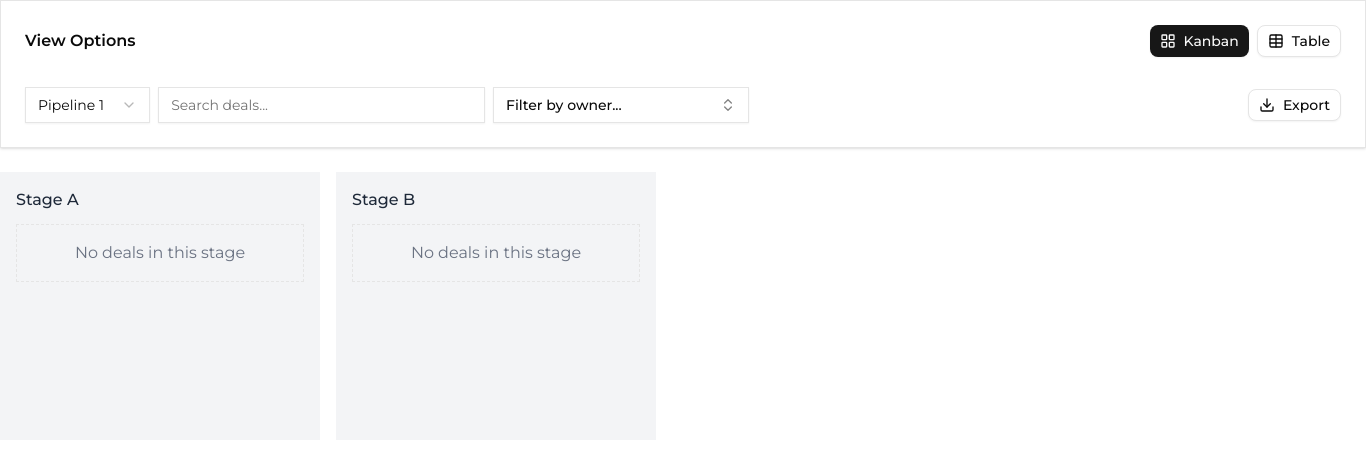
Test: DealsViewContainer › export functionality › disables export button and shows loading state during export
This screenshot has width=1366, height=457.
Step 1. Click the button "Export" → x=1294, y=105, box [1248,89,1341,121]
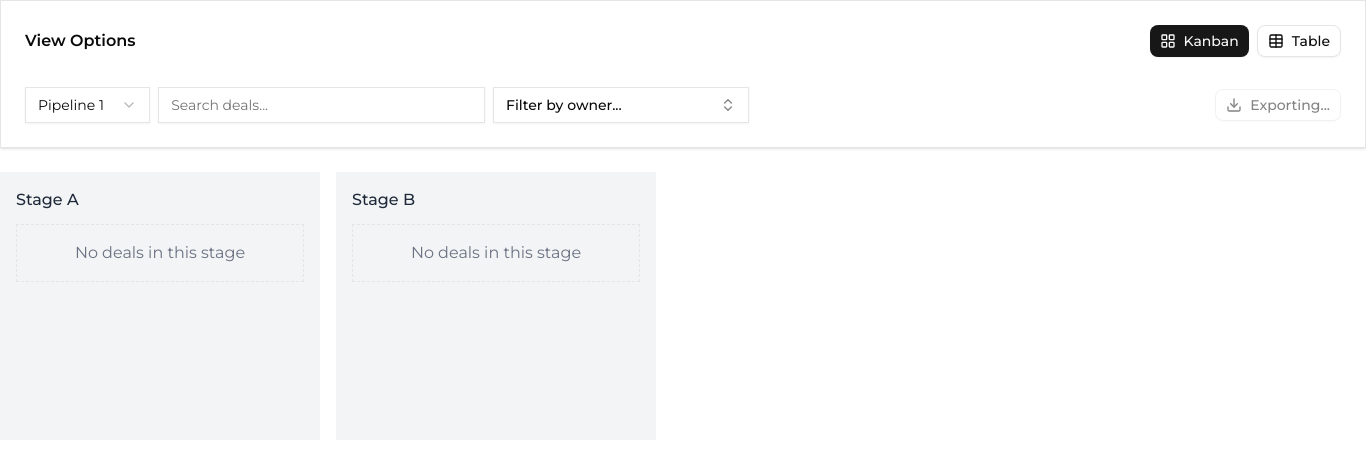
Result: the button "Exporting..." is disabled at [1215,89,1341,121]
Result: the button "Exporting..." is shown at [1215,89,1341,121]
